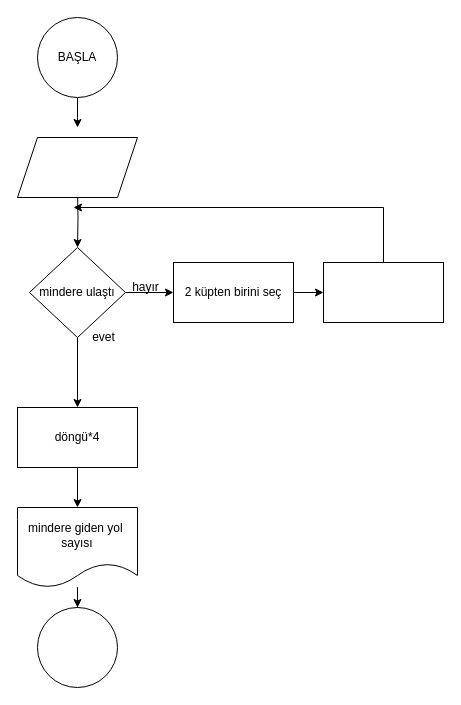
This 461x705 diagram has some shape labels left out. Each missing label, with the centre of its shape:
aşağı in: the point at 383,292
DUR: the point at 77,647
küp sayısı kat sayısı: the point at 77,167
